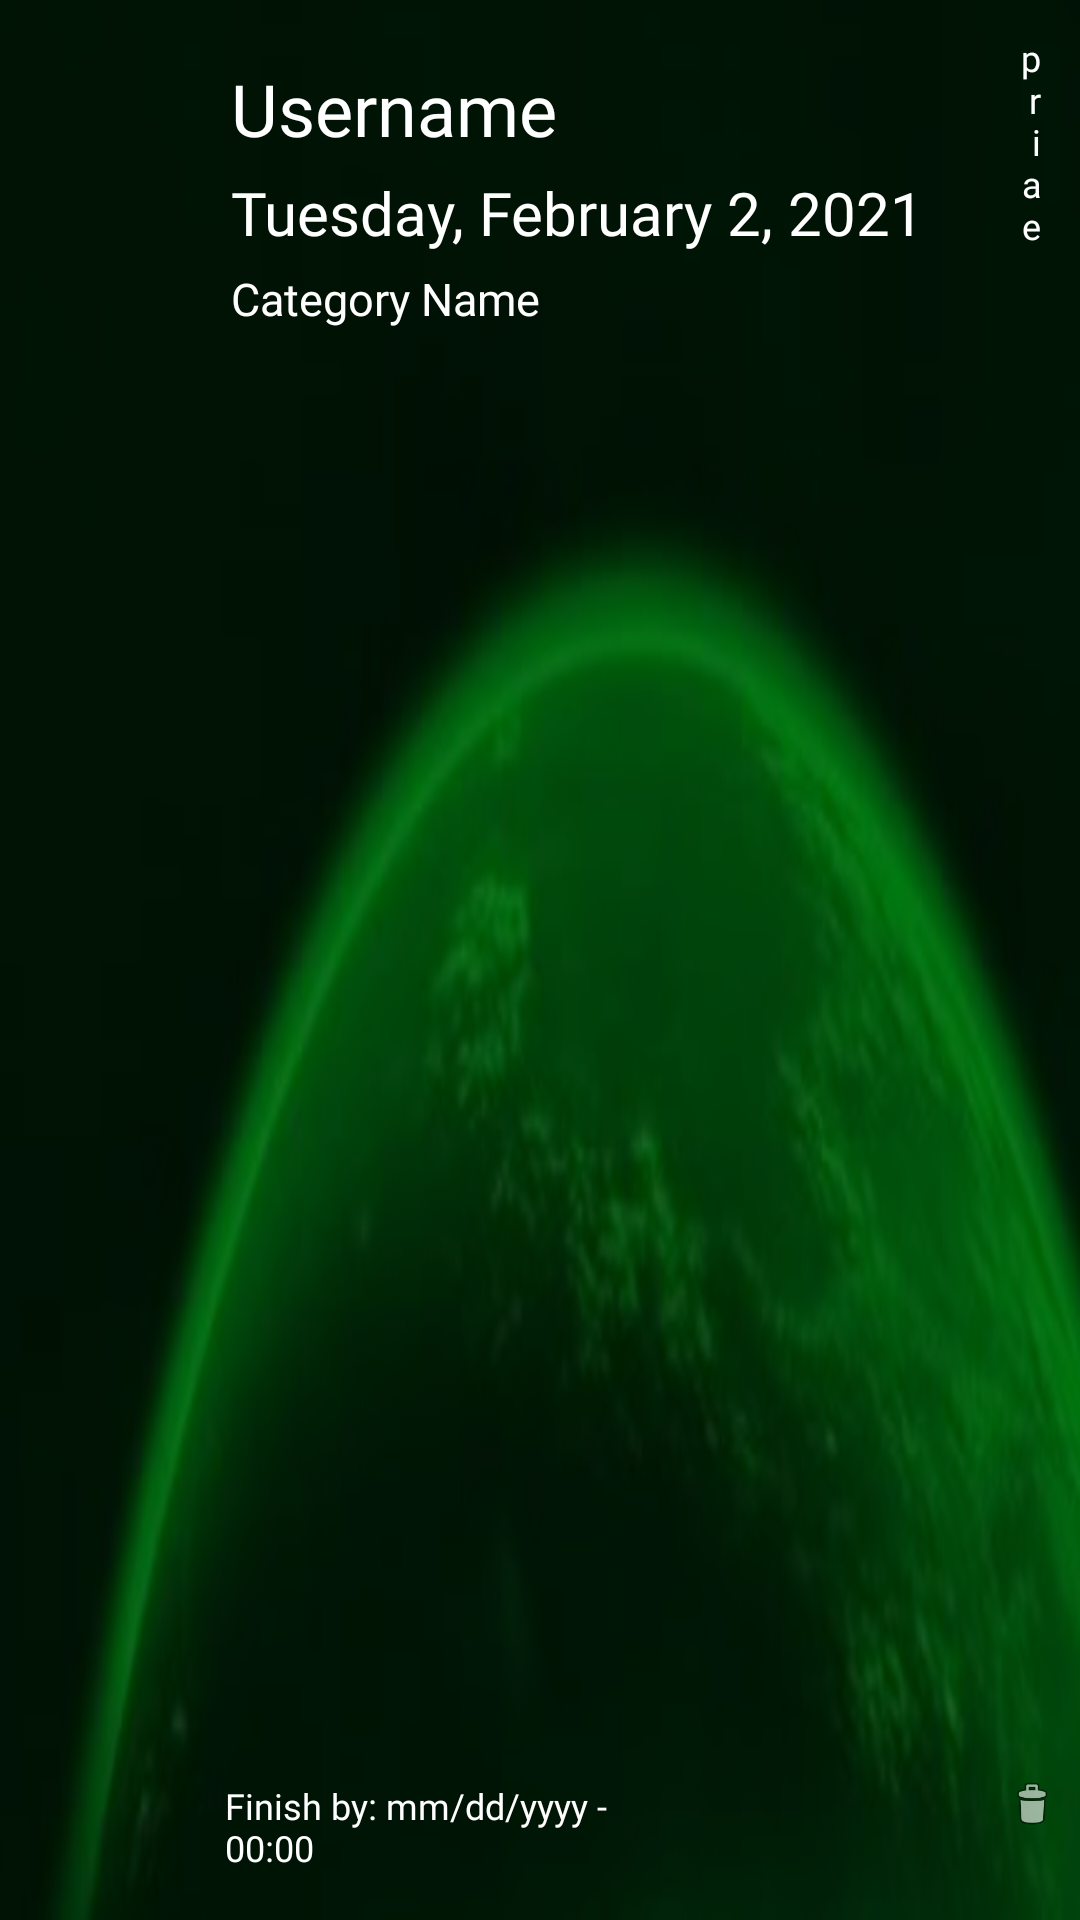

Named icons in this screenshot (1080 × 1920) and their centers, (x,y):
delete: (1032,1803)
